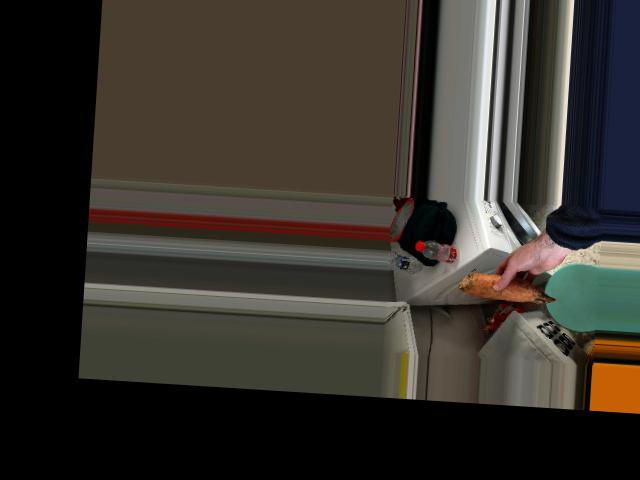sweet_potato: (454, 266, 555, 310)
